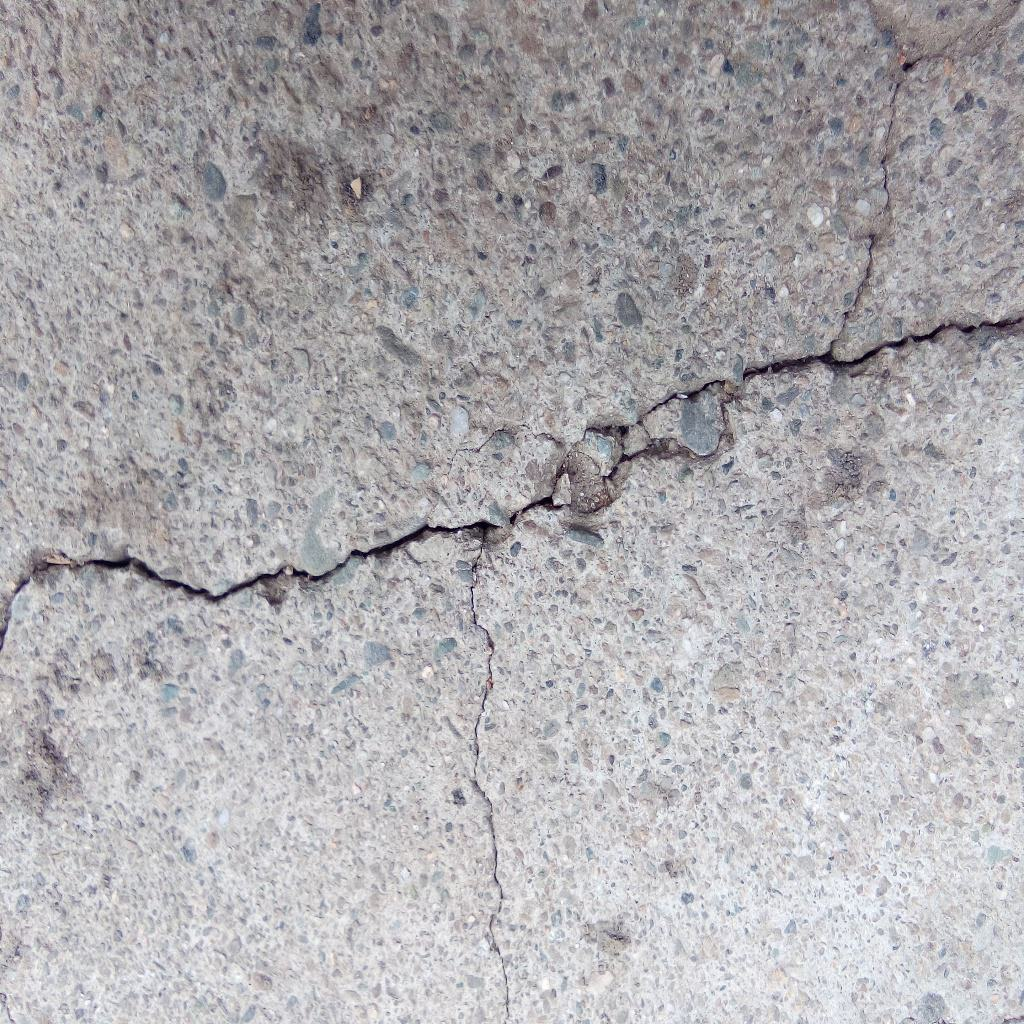Crack: (1, 313, 1024, 652), (469, 529, 510, 1024), (829, 81, 902, 353)
Spalling: (864, 1, 1024, 72)
